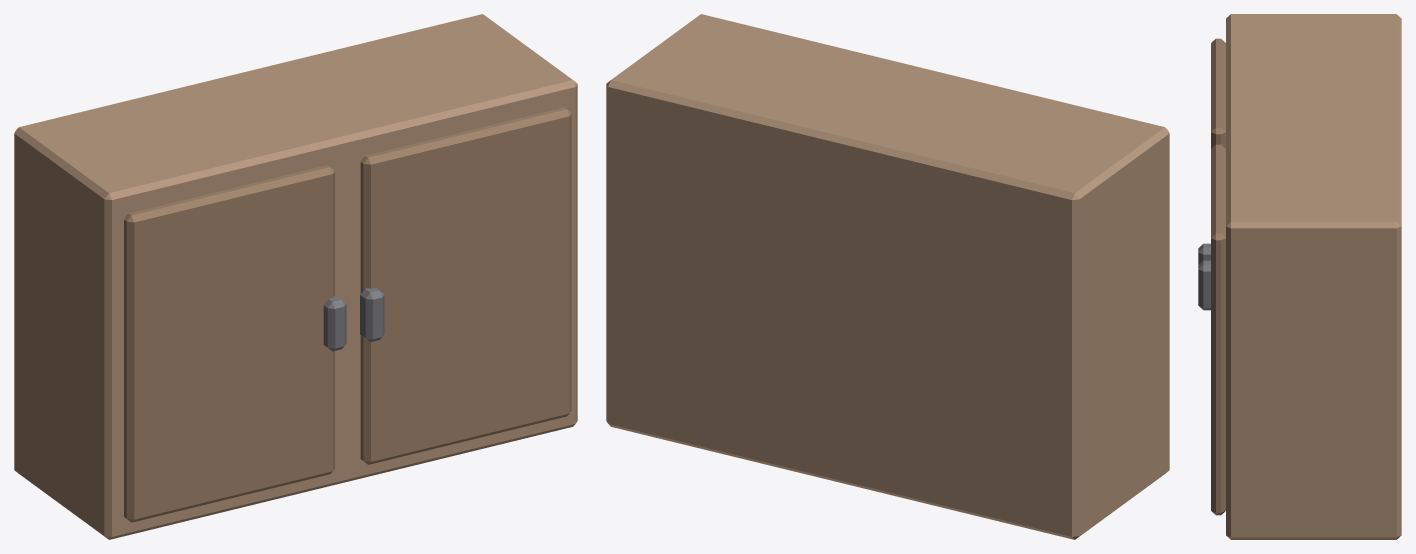
File: SM_Cabinet_Upper.fbx
3 renders of one model, left to right at view 1: azimuth 30°, elevation 25°; view 2: azimuth 150°, elevation 25°; view 3: azimuth 270°, elevation 25°, orthographic. The views are drawn at different scales.
Parts seen in each view (by area): view 1: Cabinet_Upper; view 2: Cabinet_Upper; view 3: Cabinet_Upper.
Part boxes in pixels (<box>): Cabinet_Upper: <box>14,14,577,539</box>; Cabinet_Upper: <box>606,14,1169,539</box>; Cabinet_Upper: <box>1198,14,1401,539</box>.
Bounding box in the file's own units: 100 × 70 × 40.5.
